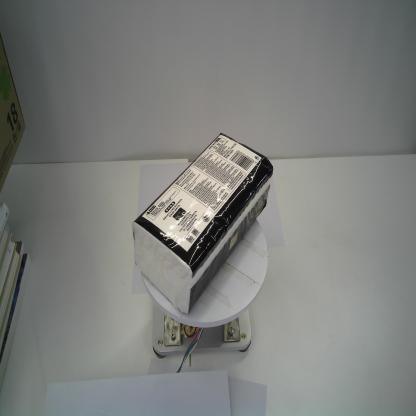Tissue: (130, 130, 275, 318)
